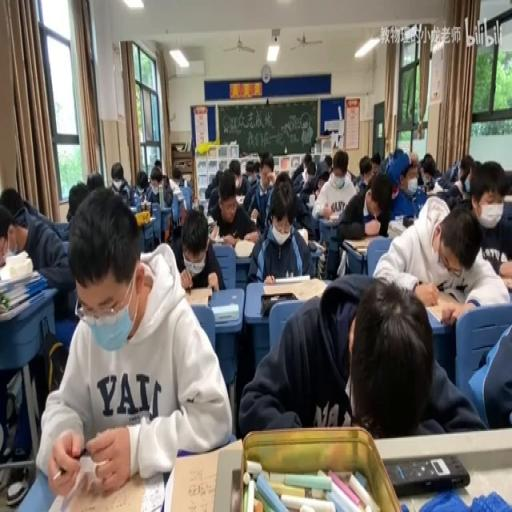calculator: (47, 457, 165, 509), (165, 445, 231, 512), (420, 284, 470, 324), (0, 289, 45, 320), (0, 266, 40, 294), (184, 286, 213, 306), (346, 235, 378, 253), (210, 302, 238, 322), (234, 238, 256, 256), (387, 216, 406, 236), (413, 186, 426, 214), (274, 273, 308, 282), (307, 239, 326, 252), (499, 274, 512, 293), (134, 215, 154, 226), (426, 182, 443, 193), (296, 226, 307, 243), (206, 219, 216, 235), (210, 234, 224, 244), (174, 188, 184, 202), (306, 194, 315, 208), (235, 195, 245, 205), (329, 212, 341, 220), (128, 203, 138, 212), (506, 192, 512, 202)
paper: (239, 272, 485, 436), (0, 189, 75, 467), (374, 193, 508, 310), (466, 314, 511, 426), (173, 208, 224, 294), (312, 149, 358, 222), (384, 147, 420, 219), (247, 154, 277, 226), (284, 176, 318, 238), (156, 166, 182, 236), (438, 151, 472, 202), (109, 161, 131, 203), (66, 180, 88, 222), (226, 156, 248, 196), (353, 154, 376, 192), (0, 186, 26, 219), (418, 150, 438, 188), (134, 169, 152, 205), (203, 168, 220, 202), (291, 154, 309, 184), (497, 168, 512, 198), (273, 171, 291, 192), (86, 172, 104, 191), (150, 174, 162, 189), (306, 166, 315, 185), (322, 155, 332, 171), (171, 170, 181, 186), (409, 151, 418, 168), (245, 168, 255, 183), (402, 148, 410, 163), (387, 148, 394, 163), (152, 158, 162, 168), (160, 176, 167, 188)
person: (386, 454, 470, 496), (259, 293, 298, 314), (402, 214, 414, 224)
